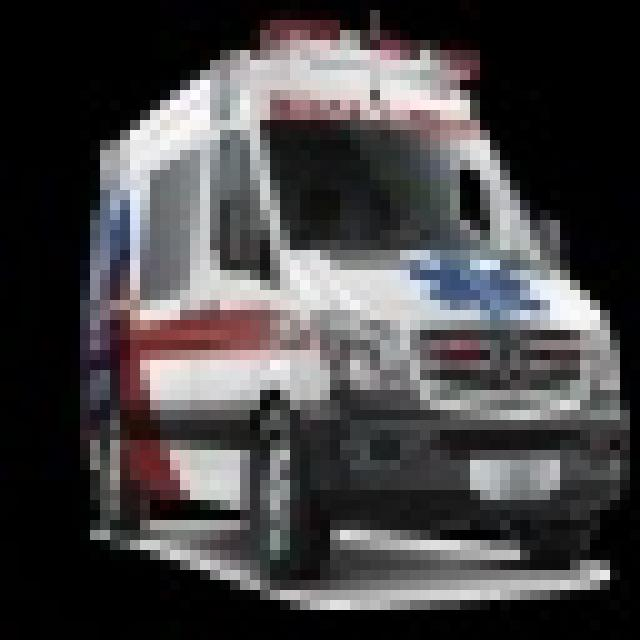Ambulance: (70, 0, 630, 600)
